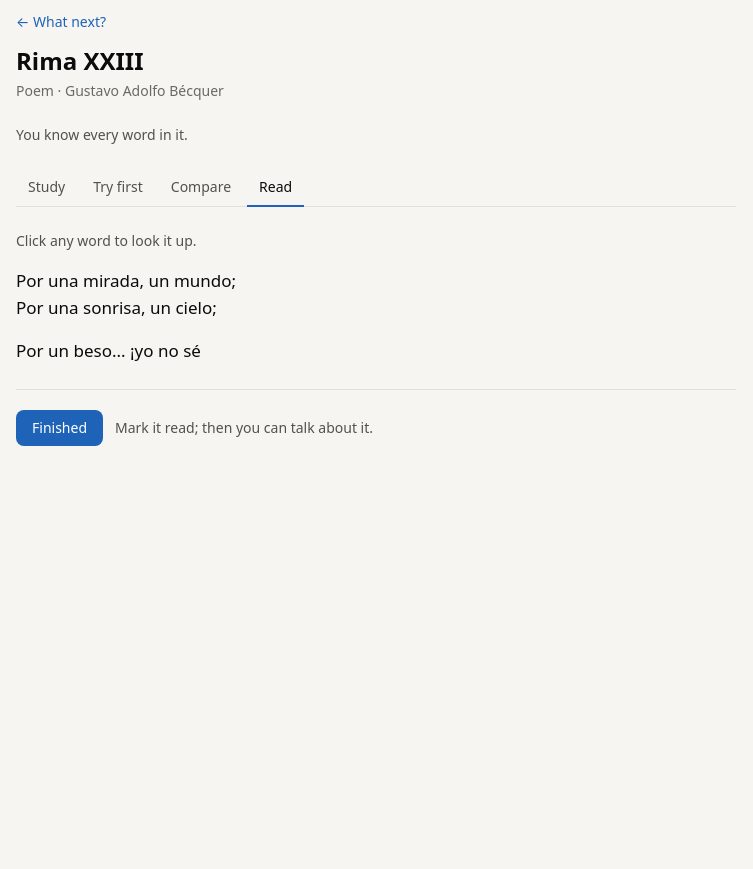
Lyrics › compares your lines with the natural and literal translations
Click the tab "Try first". click: (118, 188)
box: [81,169,155,207]
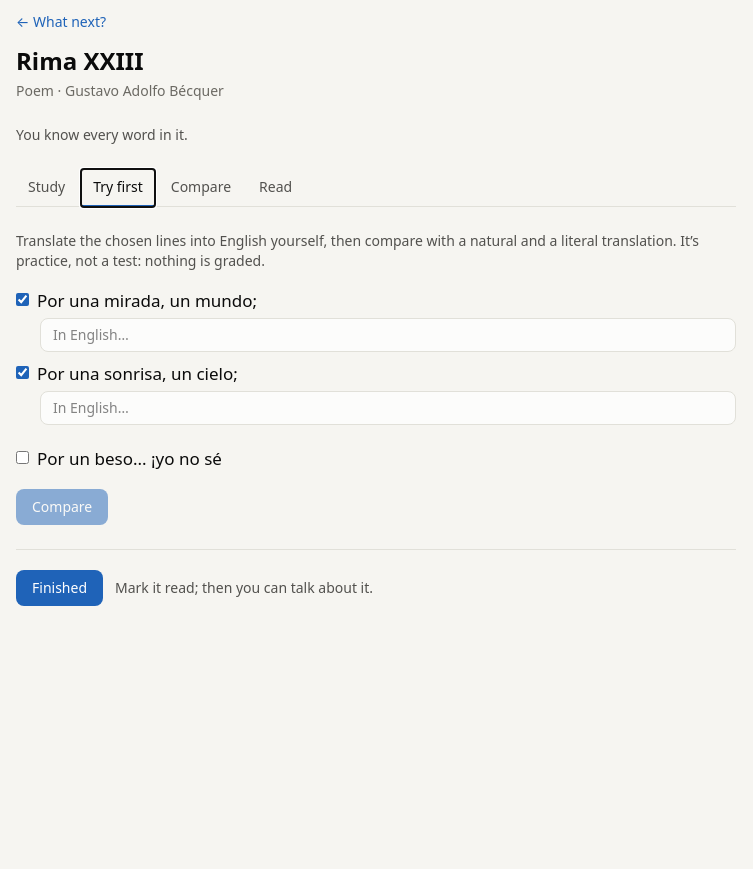
Type "For a look, a world" into the field named "Your translation of line 1". click: (388, 335)
box: [40,318,736,352]
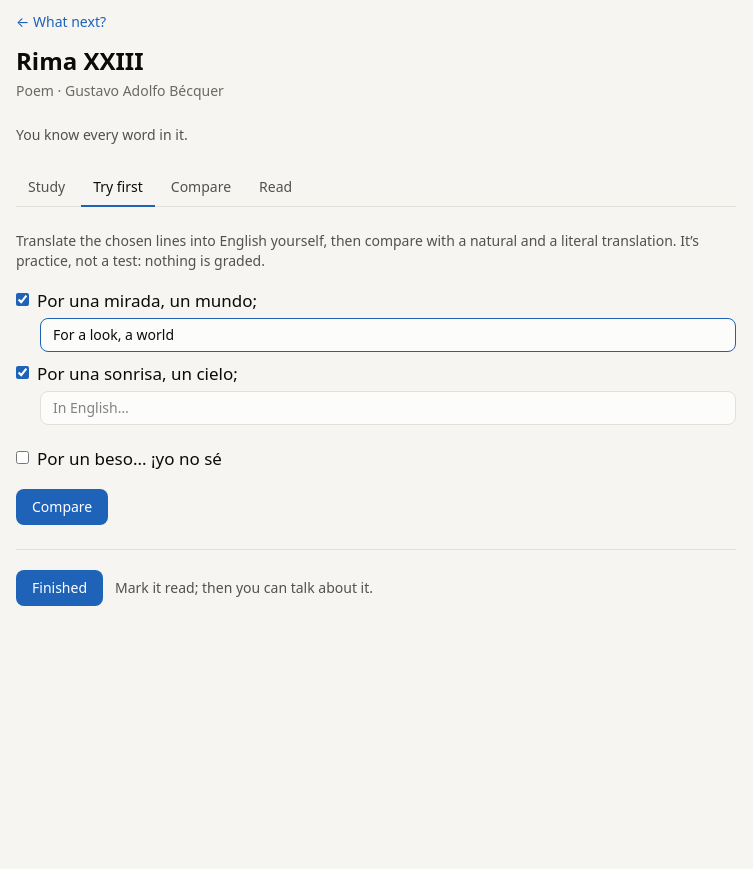
Click the button "Compare". click: (62, 507)
box: [16,489,108,525]
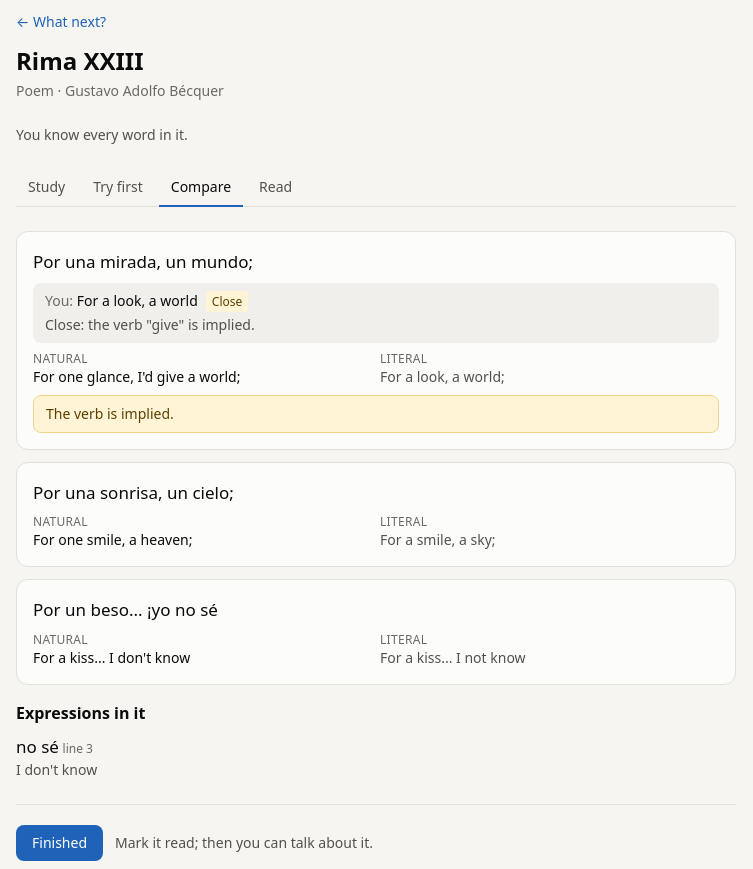
Result: the text "Close" is shown at [206,291,248,312]
Result: the text "For one glance, I'd give a world;" is shown at [33,367,240,386]
Result: the text "For a smile, a sky;" is shown at [380,530,496,549]
